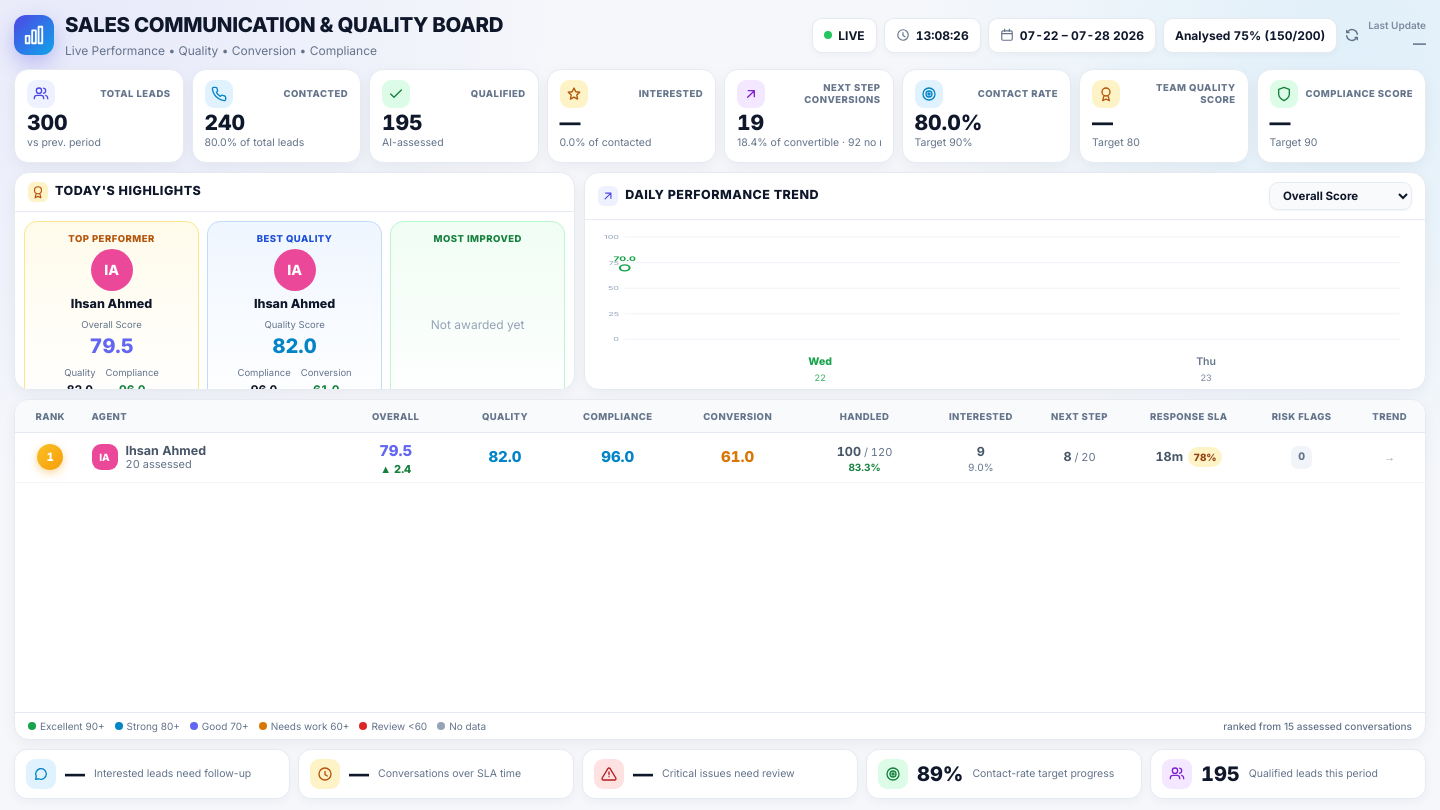
Test: team conversion KPI › opens the same next-step / ghosted tab pair as the per-row cell
Click the button "NEXT STEP CONVERSIONS" at (809, 116), box x1=724 y1=69 x2=894 y2=163
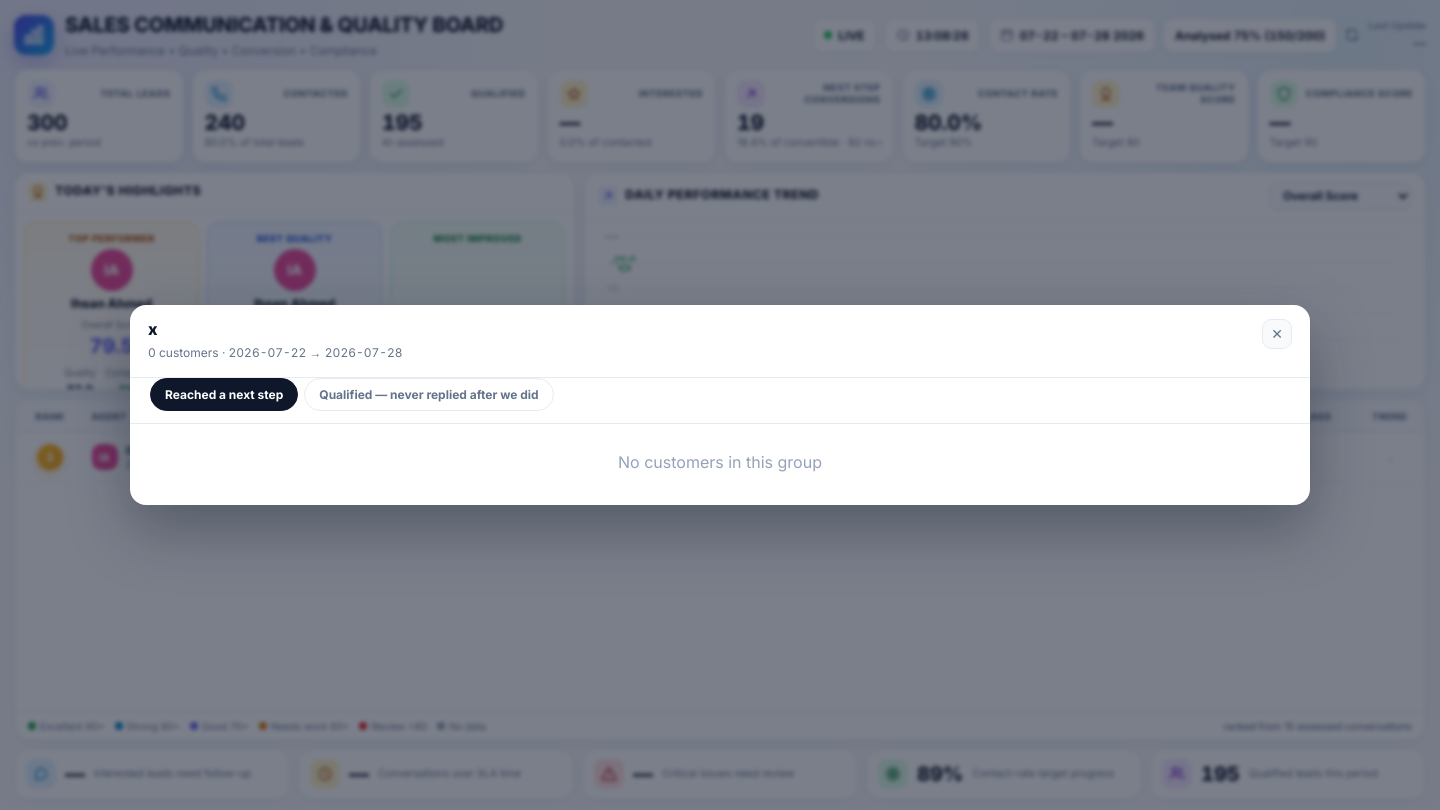
Result: the element showing "Reached a next step Qualified — never replied after we did" is shown at x1=130 y1=378 x2=1310 y2=424
